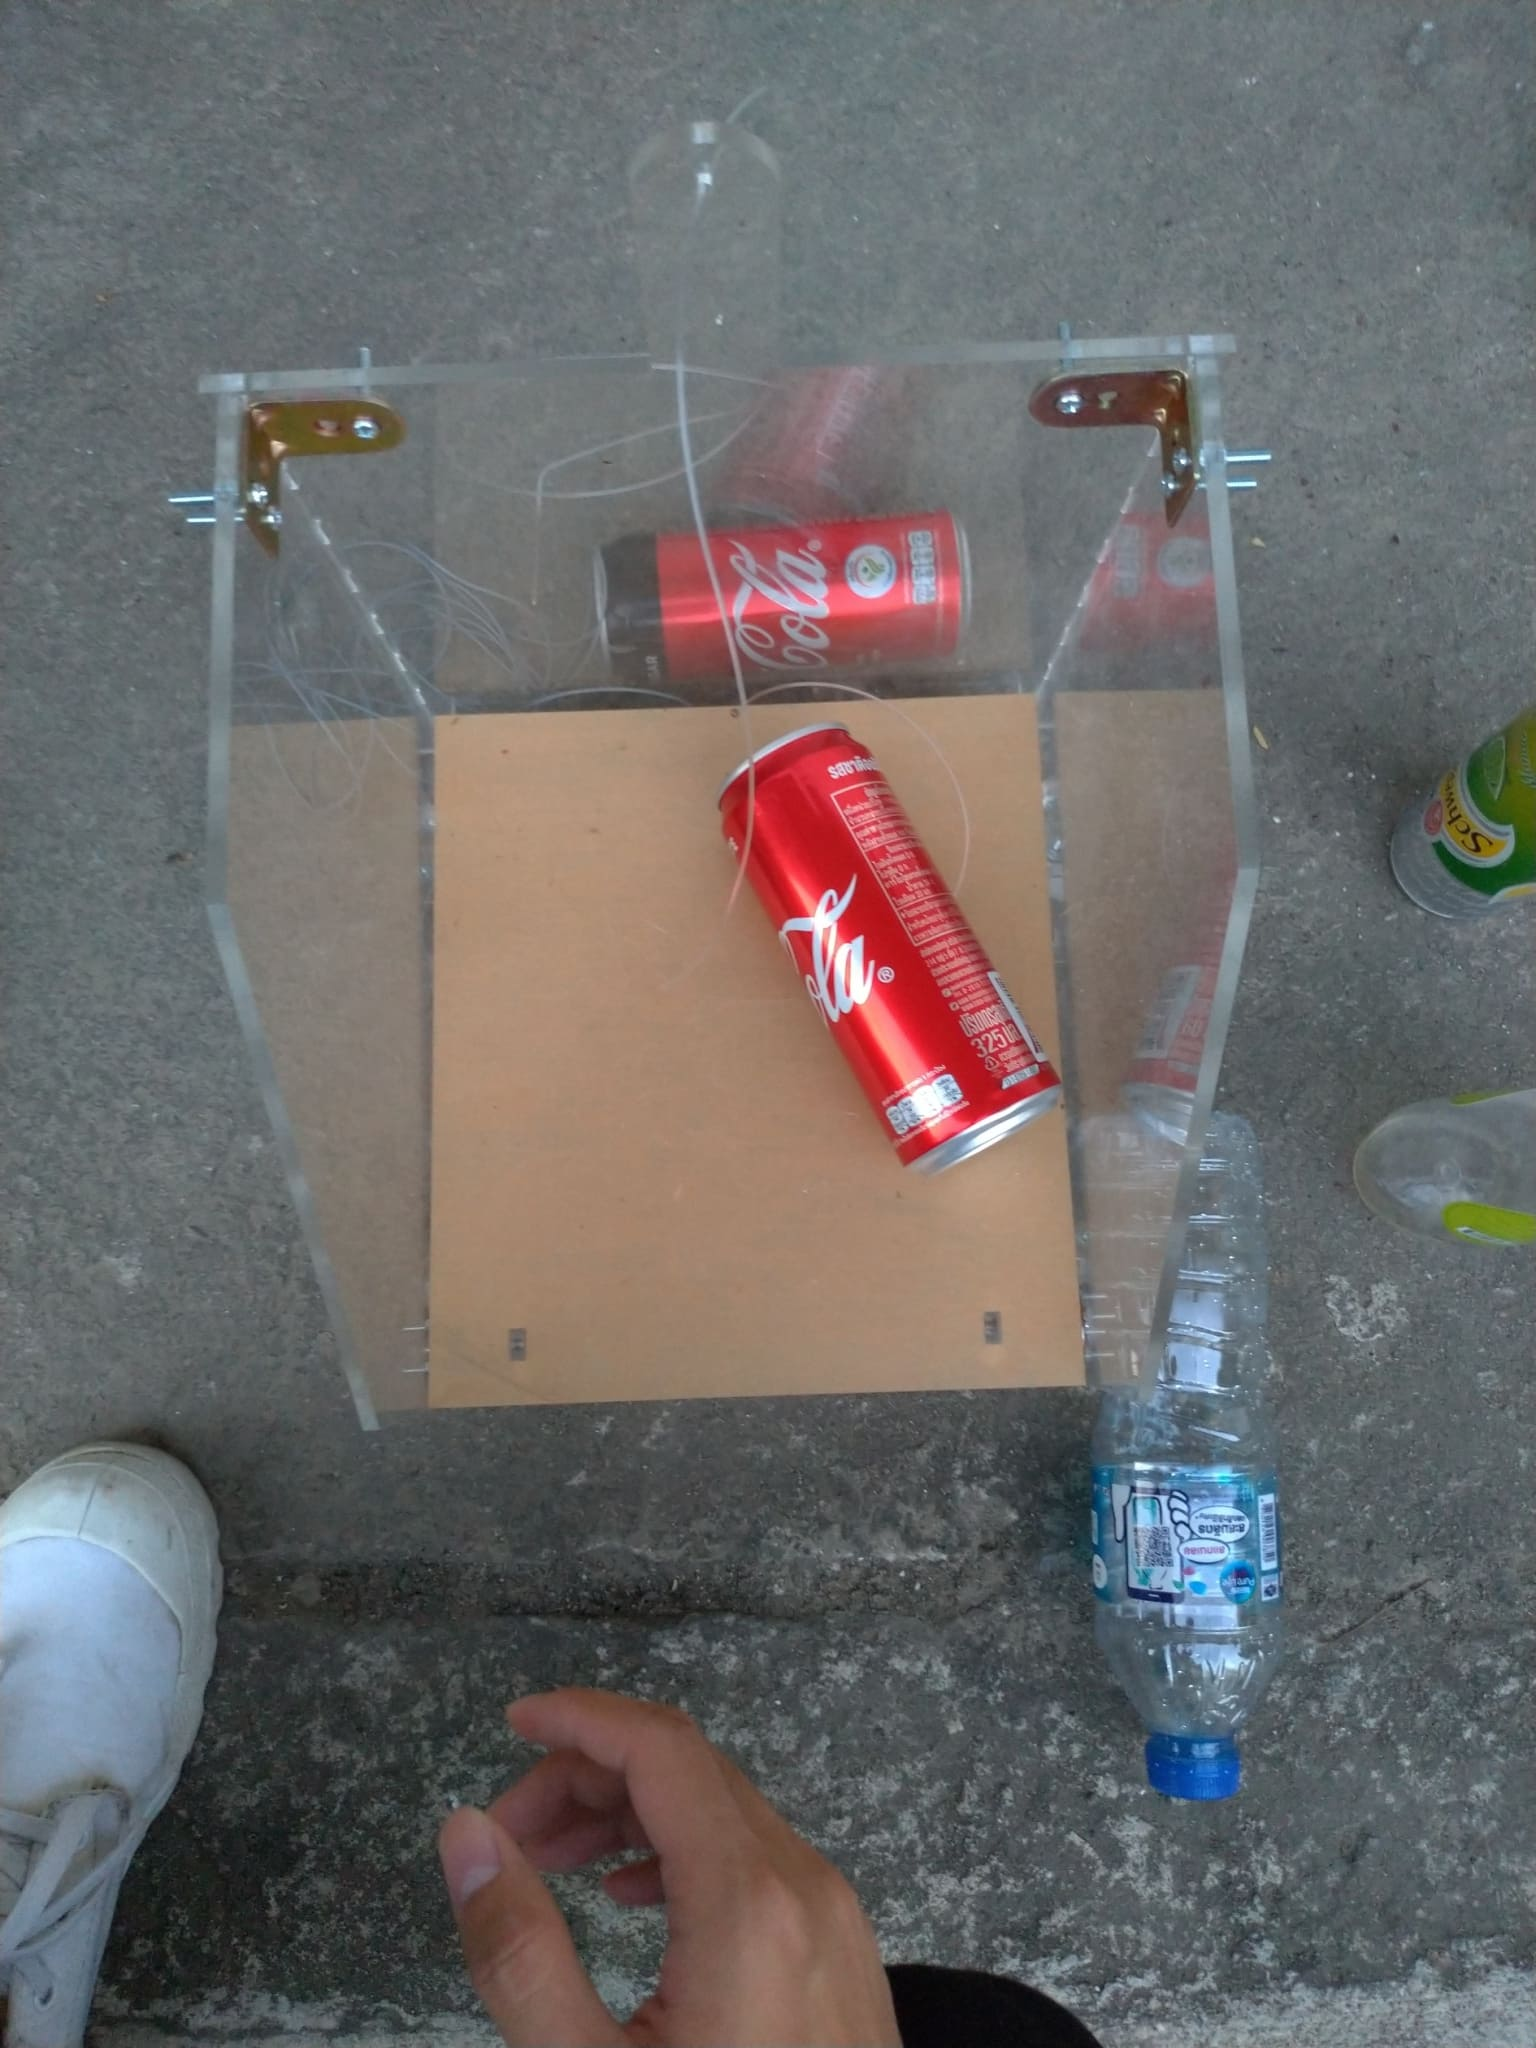AlCan: (716, 722, 1063, 1184), (587, 511, 983, 692), (1384, 705, 1536, 913)
PlasticBottle: (1060, 1118, 1283, 1795)
